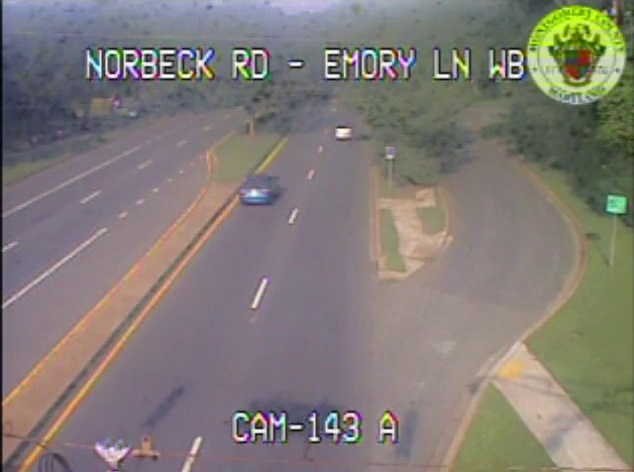car: (239, 175, 278, 204), (335, 125, 351, 140)
